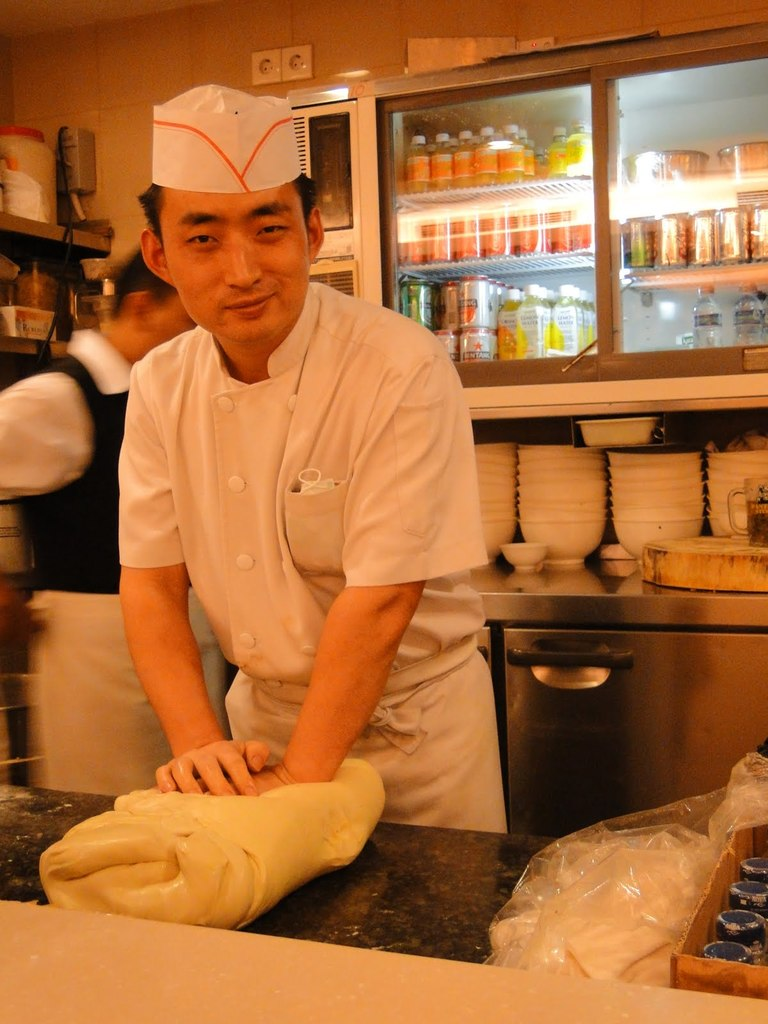refrigerator door: (378, 102, 595, 368), (593, 80, 768, 381)
